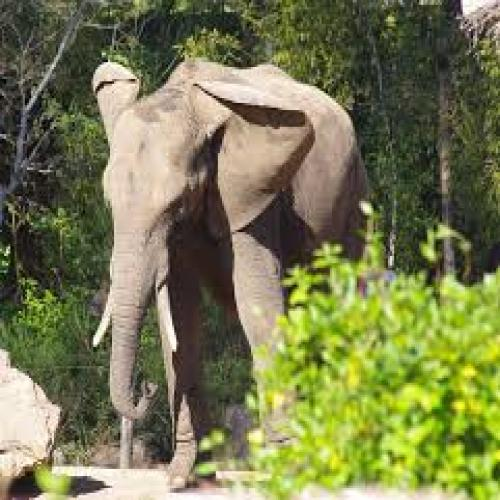asian_elephant-endangered: (89, 57, 366, 475)
